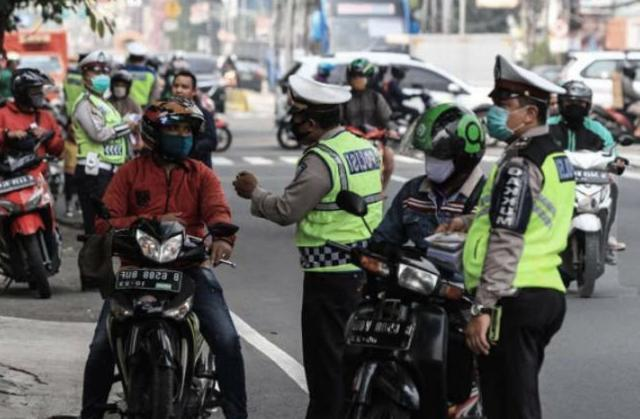helm: (402, 102, 487, 191), (140, 99, 210, 171), (10, 69, 56, 111), (556, 79, 597, 123), (345, 58, 379, 96), (111, 72, 133, 103)
motor: (80, 215, 240, 419), (320, 237, 485, 419), (548, 137, 637, 304), (2, 125, 67, 305)
